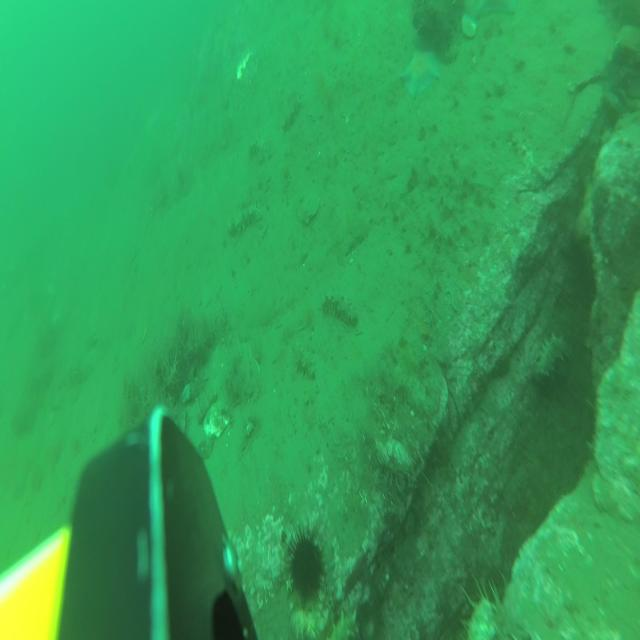echinus: (286, 528, 326, 610)
holothurian: (538, 330, 573, 381), (324, 289, 358, 330), (330, 607, 364, 640), (229, 204, 259, 237), (283, 96, 302, 132), (296, 355, 316, 382), (248, 137, 266, 164)
scallop: (228, 340, 250, 385), (204, 400, 228, 440), (237, 357, 260, 398), (299, 190, 319, 224), (461, 14, 476, 38)
starfish: (403, 48, 441, 100), (464, 0, 514, 24)
